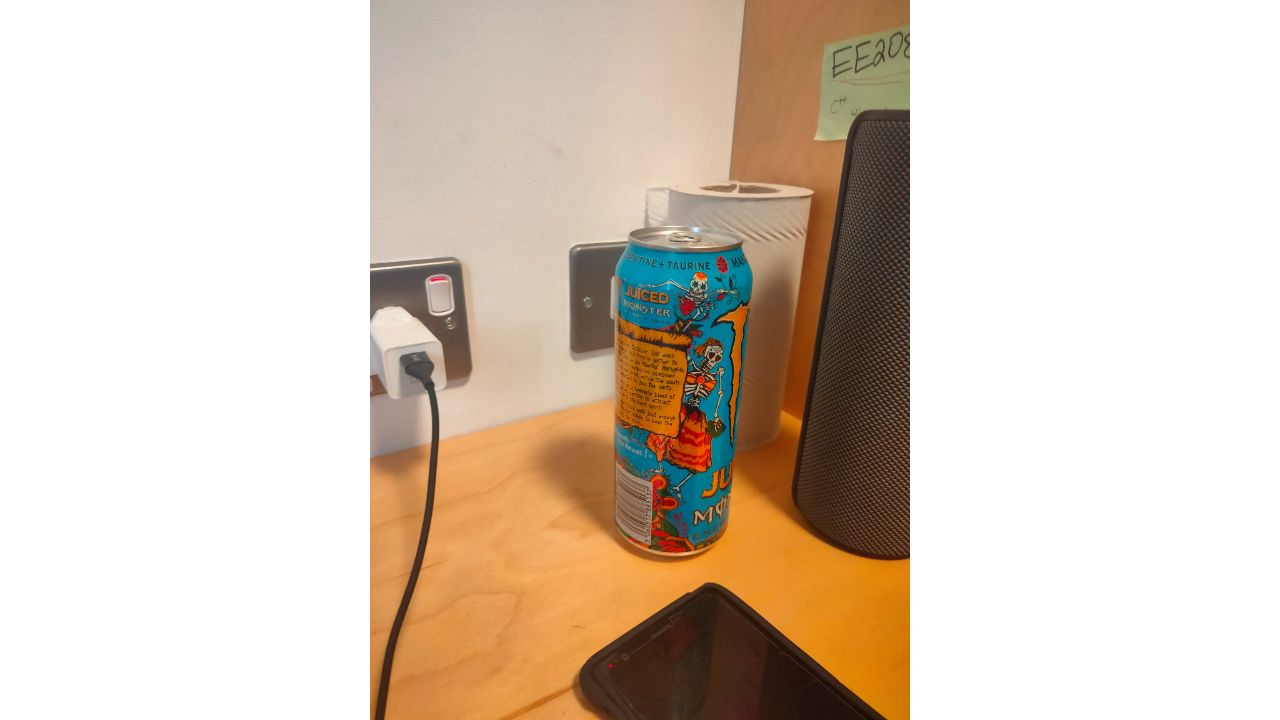Can: (605, 224, 757, 567)
